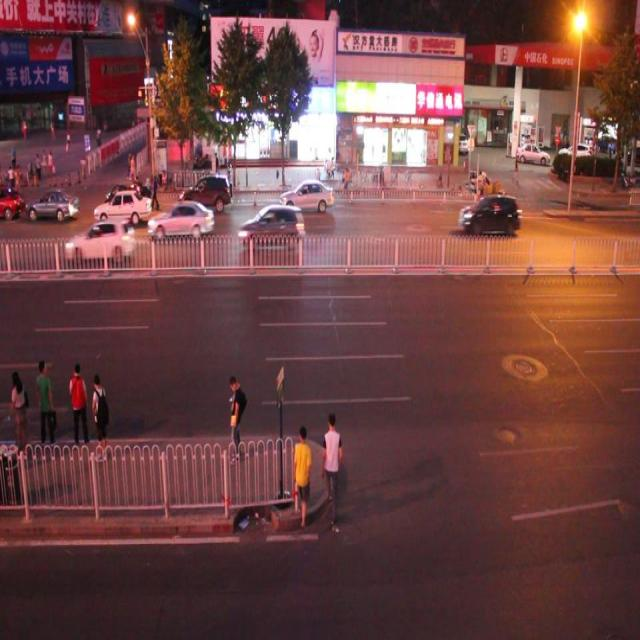car: (65, 218, 137, 258), (147, 198, 215, 239), (239, 204, 304, 246), (458, 194, 520, 236), (279, 178, 334, 217), (93, 190, 152, 224), (25, 187, 80, 223), (177, 174, 232, 210), (102, 180, 144, 212)
